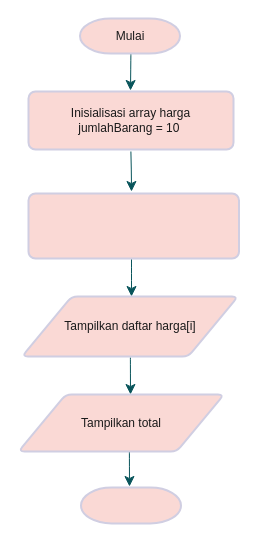
The diagram is 257 pixels wide and 541 high, and some of its shapes have lost their labels. Here are the shapes that lost their labels. From the top down, the box of each, then its label:
(27, 192, 240, 259): Input harga[i] untuk i = 0. total = total + harga[i]
(80, 486, 182, 524): selesai
